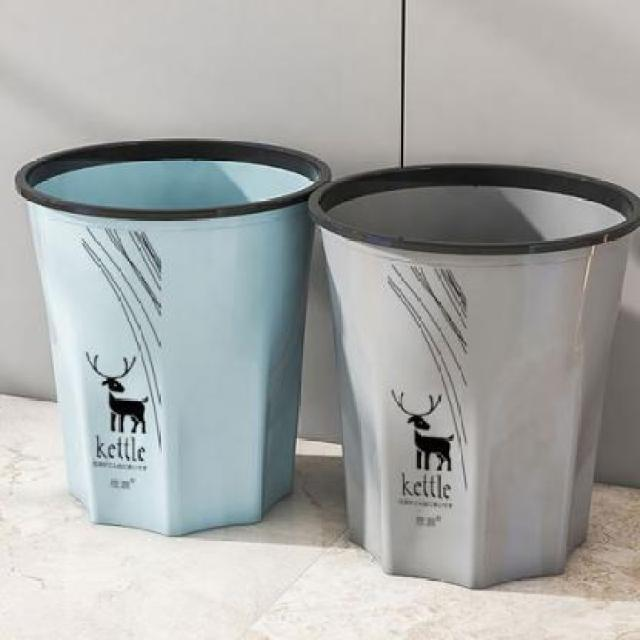dustbin: (304, 158, 640, 594), (11, 134, 336, 543)
